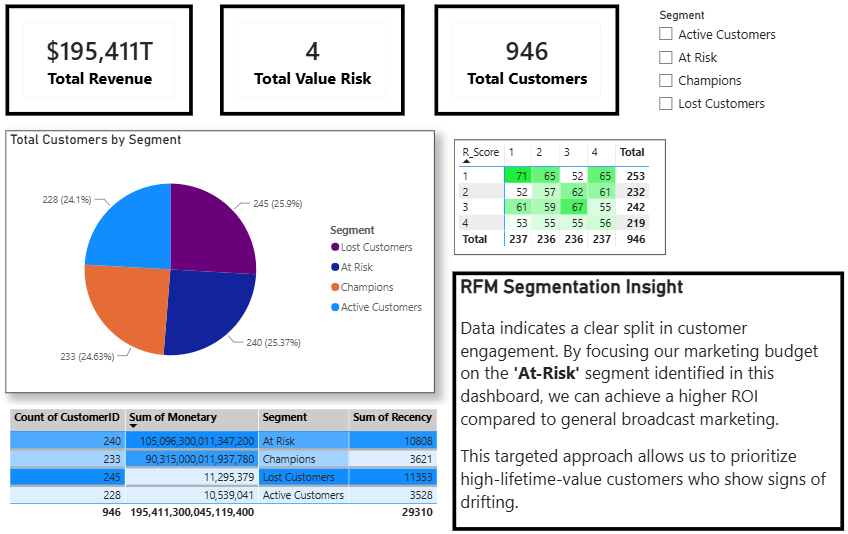

What the dashboard file says about the page in this screenshot:
{"tool":"powerbi","page":{"name":"Page 1","canvas":[1280,720],"ordinal":0},"visuals":[{"type":"cardVisual","fields":{"Data":["full_rfm_analysis_final.Total Customers"]},"box":[742.7,43.5,232.4,139.8],"z":0},{"type":"cardVisual","fields":{"Data":["full_rfm_analysis_final.Risk Level"]},"box":[461.1,43.5,232.4,139.8],"z":1000},{"type":"cardVisual","fields":{"Data":["full_rfm_analysis_final.Total Revenue"]},"box":[198.4,43.5,236.2,139.8],"z":2000},{"type":"pieChart","fields":{"Category":["full_rfm_analysis_final.Segment"],"Y":["full_rfm_analysis_final.Total Customers"]},"box":[198.4,200.3,523.5,330.7],"z":4000},{"type":"tableEx","fields":{"Values":["CountNonNull(full_rfm_analysis_final.CustomerID)","Sum(full_rfm_analysis_final.Monetary)","full_rfm_analysis_final.Segment","Sum(full_rfm_analysis_final.Recency)"]},"box":[198.4,548,565,158.7],"z":5000},{"type":"slicer","fields":{"Values":["full_rfm_analysis_final.Segment"]},"box":[1009.1,43.5,232.4,158.7],"z":6000},{"type":"pivotTable","fields":{"Rows":["full_rfm_analysis_final.R_Score"],"Columns":["full_rfm_analysis_final.F_Score"],"Values":["full_rfm_analysis_final.Total Customers"]},"box":[763.5,213.5,266.5,145.5],"z":6001},{"type":"textbox","title":"RFM Segmentation Insight","box":[761.6,379.8,493.2,326.9],"z":6002},{"type":"textbox","box":[0,200,198,331],"z":6003}]}

Visuals, with their boxes on the page's 1280x720 design canvas (x1, y1, x2, y2). These are canvas units, not pixel positions in the 848x534 screenshot, which may show the page scaled, cropped or inside an application window:
cardVisual - full_rfm_analysis_final.Total Customers: select_region(743, 44, 975, 183)
cardVisual - full_rfm_analysis_final.Risk Level: select_region(461, 44, 694, 183)
cardVisual - full_rfm_analysis_final.Total Revenue: select_region(198, 44, 435, 183)
pieChart - full_rfm_analysis_final.Segment x full_rfm_analysis_final.Total Customers: select_region(198, 200, 722, 531)
tableEx - CountNonNull(full_rfm_analysis_final.CustomerID) x Sum(full_rfm_analysis_final.Monetary): select_region(198, 548, 763, 707)
slicer - full_rfm_analysis_final.Segment: select_region(1009, 44, 1242, 202)
pivotTable - full_rfm_analysis_final.R_Score x full_rfm_analysis_final.F_Score: select_region(764, 214, 1030, 359)
"RFM Segmentation Insight" textbox: select_region(762, 380, 1255, 707)
textbox: select_region(0, 200, 198, 531)
